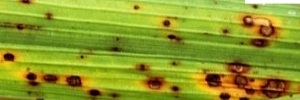RiceBrownSpot: (1, 51, 109, 100), (130, 3, 184, 93), (196, 61, 295, 100), (215, 11, 286, 59), (1, 1, 53, 33)
